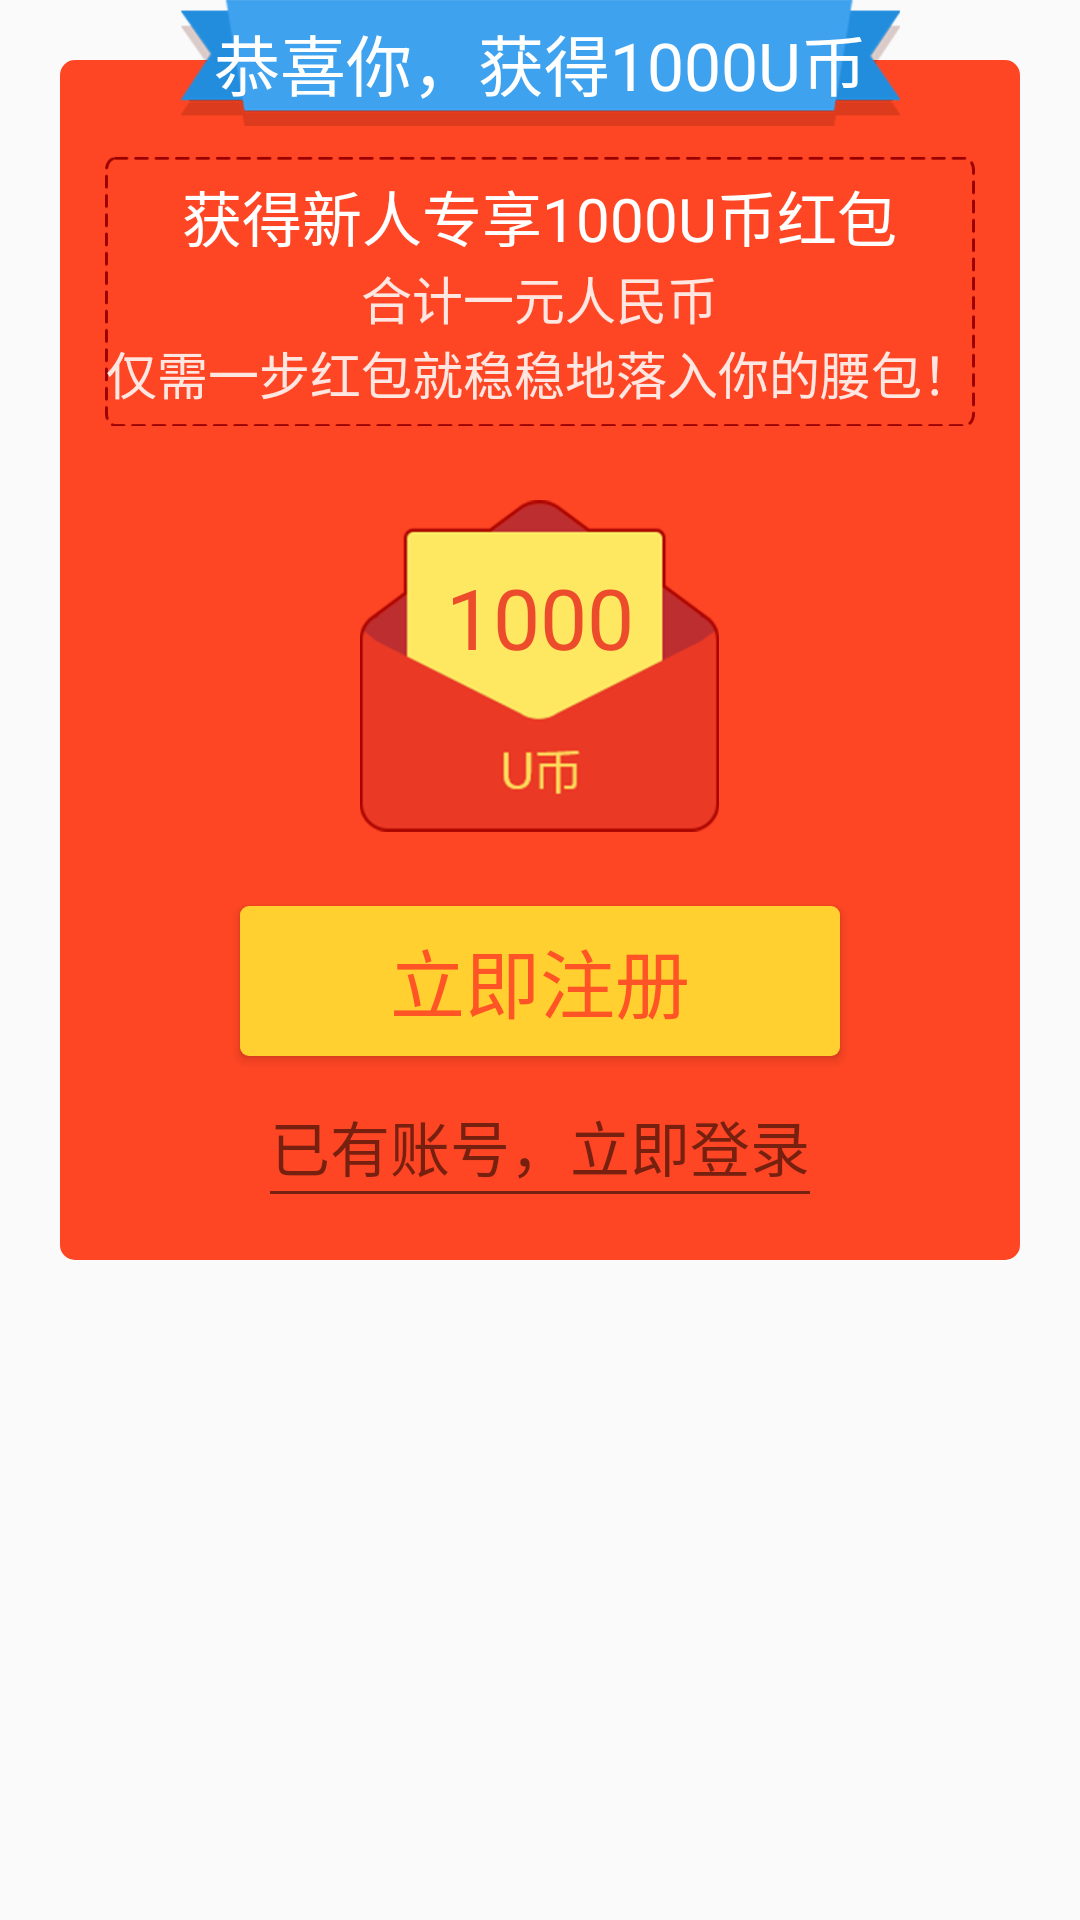

Named icons in this screenshot (1080px x 1920px) and their centers, (x=x, y=y):
newuser redbag: (x=539, y=666)
